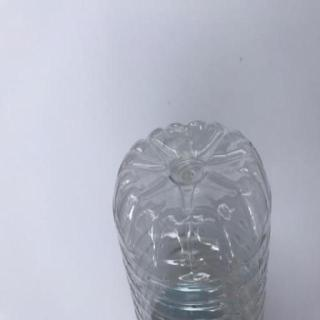Plastic-bottle: (113, 120, 273, 320)
